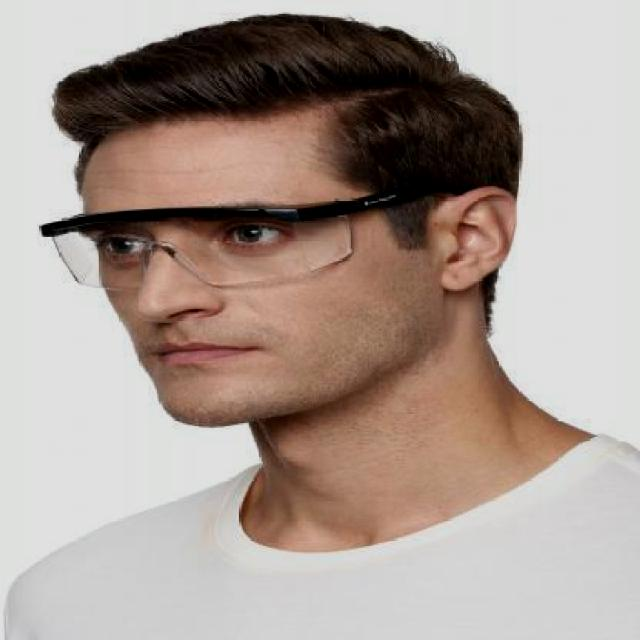face_nomask: (72, 186, 308, 409)
glasses: (41, 172, 512, 293)
head_nohelmet: (50, 12, 492, 175)
